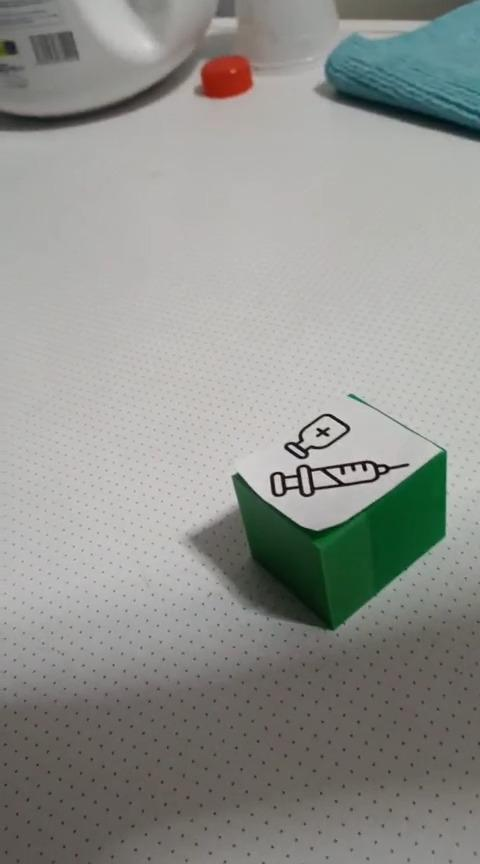antiseptic cream: (229, 390, 448, 630)
